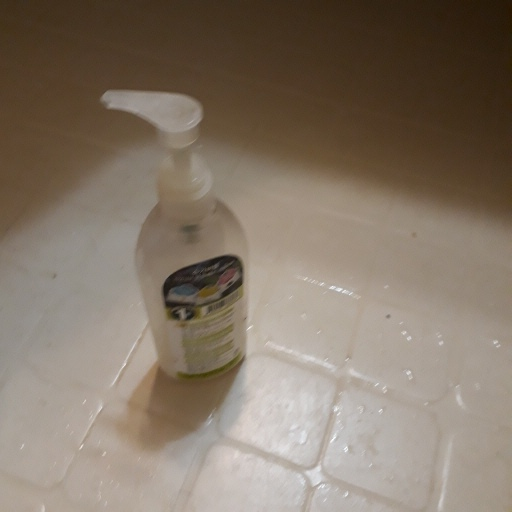Plastic_3: (98, 88, 256, 383)
